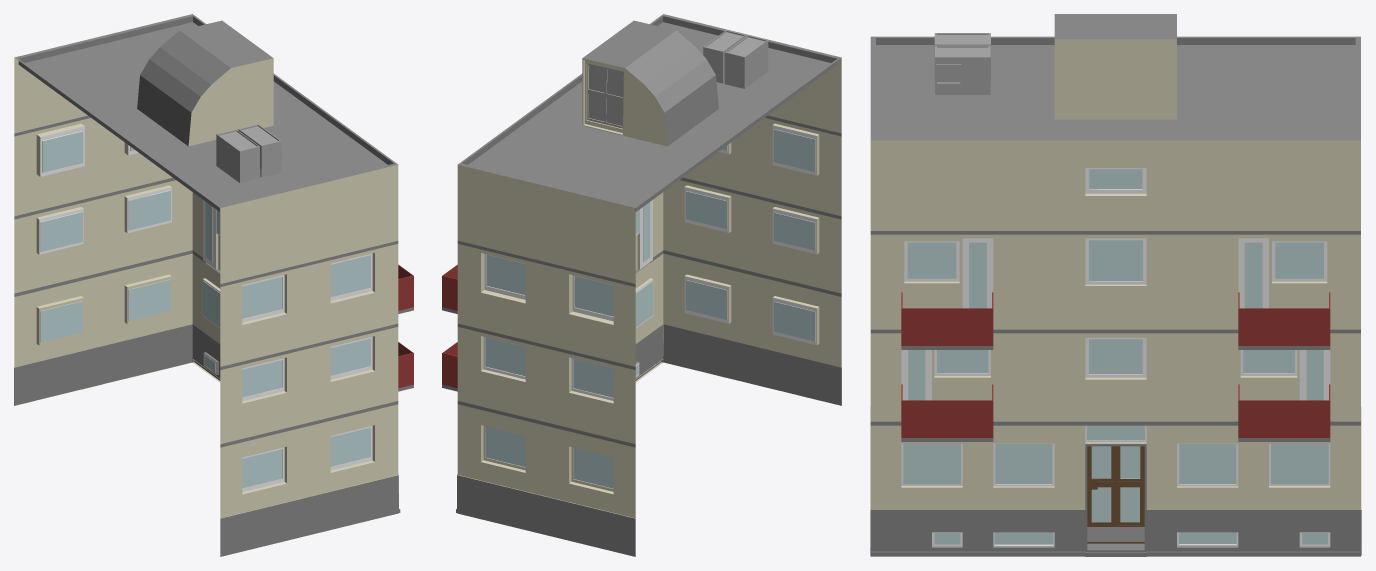
File: House_1.5_Balcony_fix_No_back-under_Material.fbx
3 views of the same model, side by side, from view 1: azimuth 30°, elevation 25°; view 2: azimuth 150°, elevation 25°; view 3: azimuth 270°, elevation 25° (orthographic). The views are drawn at different scales.
Parts seen in each view (by area): view 1: Cube; view 2: Cube; view 3: Cube.
Part boxes in pixels (<box>): Cube: <box>14,14,413,556</box>; Cube: <box>442,14,841,556</box>; Cube: <box>870,14,1361,556</box>.
Bounding box in the file's own units: 1159 × 2202 × 2005.
